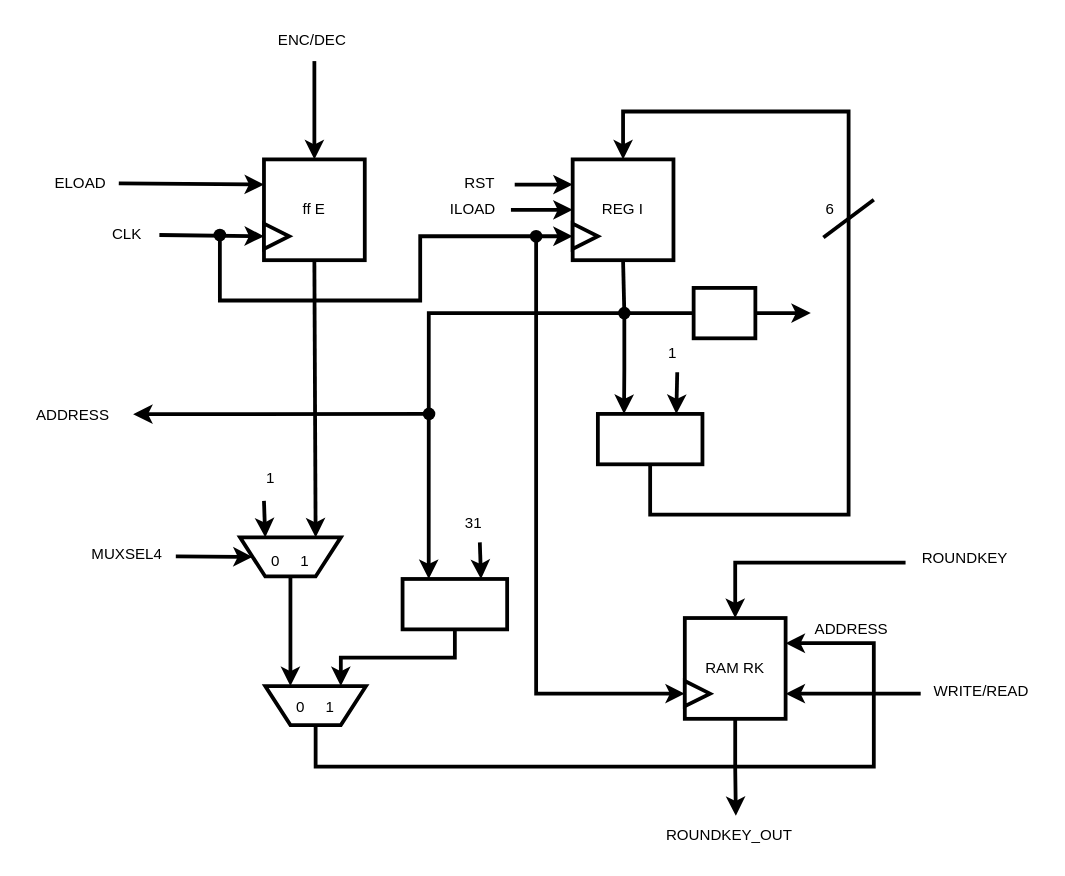
The diagram is 1065 pixels wide and 876 high, and some of its shapes have lost their labels. Here are the shapes that lost their labels. From the top down, the centre of each, then its label:
At [724,312]: "Index = 32".
At [649,438]: "ADD".
At [454,603]: "SUB".
